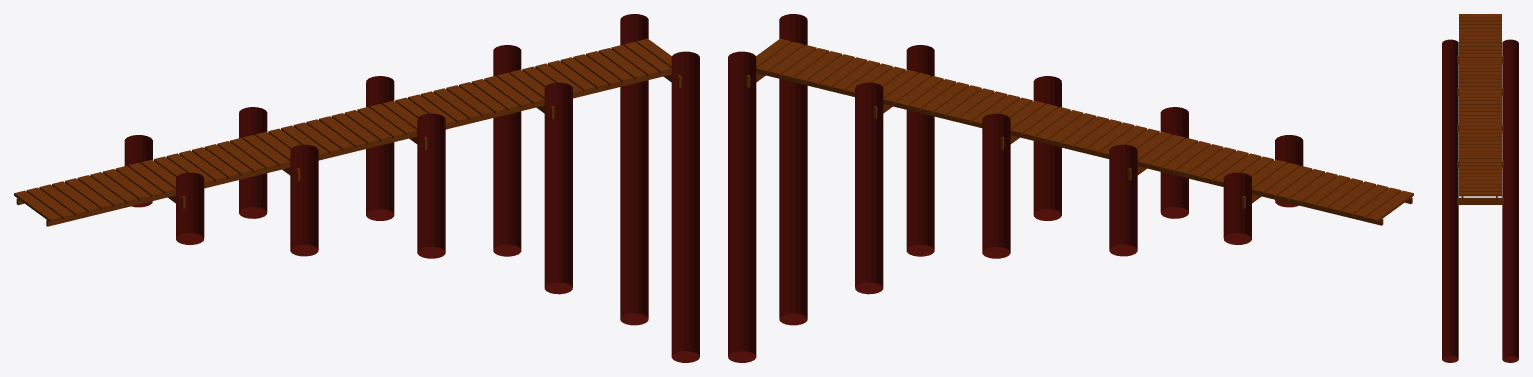
The model's file is Muelle.fbx.
3 views of the same model, side by side, from view 1: azimuth 30°, elevation 25°; view 2: azimuth 150°, elevation 25°; view 3: azimuth 270°, elevation 25° (orthographic). The views are drawn at different scales.
Visible parts, largest first — view 1: Plane.001; view 2: Plane.001; view 3: Plane.001.
Part boxes in pixels (x1,y1,x2,y2): Plane.001: (14, 14, 699, 362); Plane.001: (728, 14, 1413, 362); Plane.001: (1442, 14, 1518, 362).
Bounding box in the file's own units: 2017 × 900 × 358.
